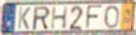2: (69, 4, 84, 31)
F: (85, 5, 104, 31)
H: (50, 6, 69, 30)
K: (17, 6, 32, 31)
O: (104, 5, 120, 30)
R: (33, 5, 51, 31)
